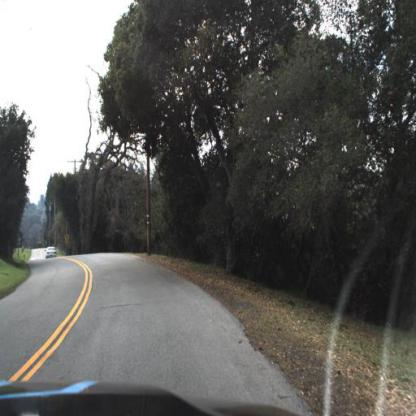car: (43, 237, 61, 263)
